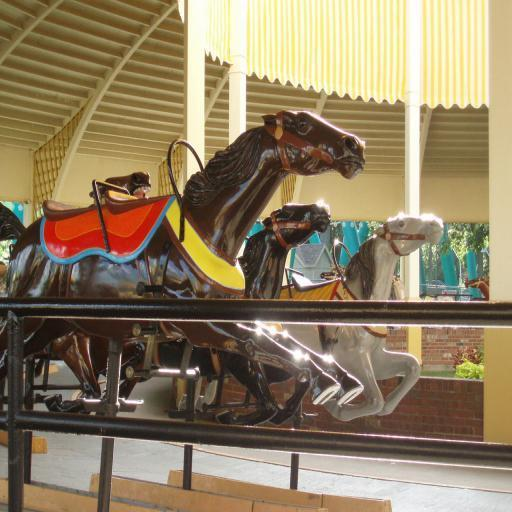horse: (0, 112, 366, 406), (49, 201, 363, 387), (178, 214, 444, 424), (0, 172, 152, 416)
